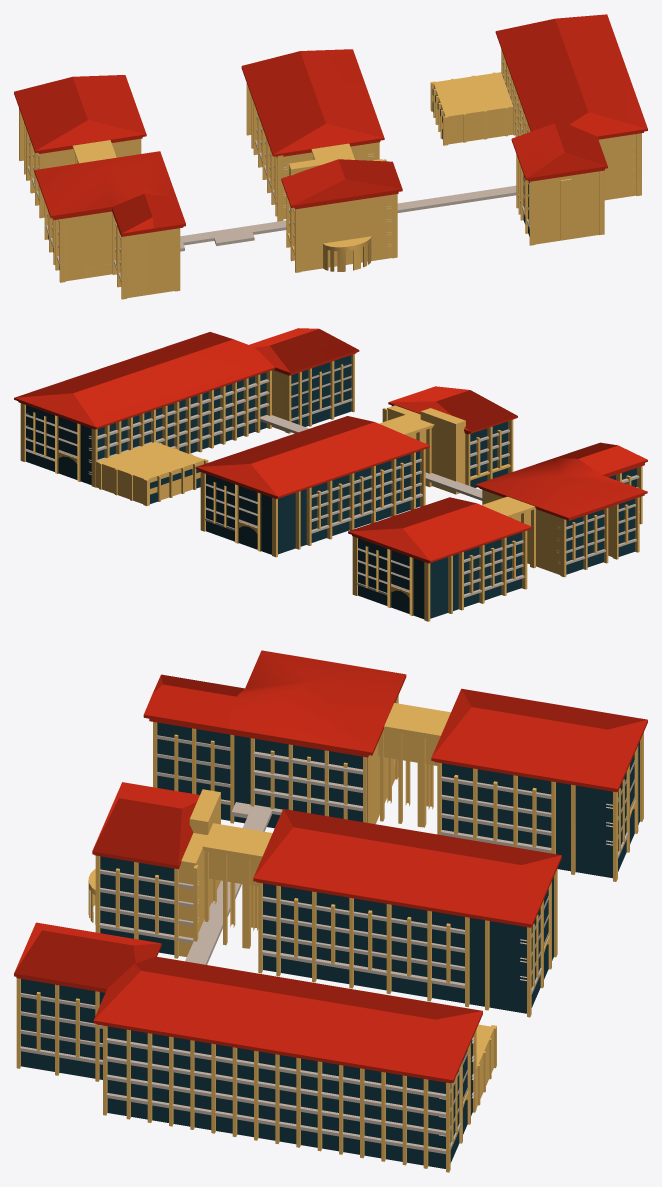
The model's file is GKL  S .FBX.
3 views of the same model, one above another, from view 1: azimuth 30°, elevation 25°; view 2: azimuth 150°, elevation 25°; view 3: azimuth 270°, elevation 25° (orthographic). The views are drawn at different scales.
Visible parts, largest first — view 1: GKL01, GKL00, GKL02; view 2: GKL01, GKL00, GKL03, GKL02; view 3: GKL01, GKL03, GKL00, GKL02.
Part boxes in pixels (left/top/right/bottom): GKL01: left=14, top=14, right=647, bottom=236; GKL00: left=19, top=49, right=641, bottom=299; GKL02: left=27, top=61, right=635, bottom=282; GKL01: left=14, top=328, right=647, bottom=563; GKL00: left=20, top=354, right=642, bottom=621; GKL03: left=26, top=355, right=636, bottom=618; GKL02: left=25, top=364, right=639, bottom=597; GKL01: left=14, top=650, right=647, bottom=1083; GKL03: left=21, top=722, right=639, bottom=1168; GKL00: left=16, top=695, right=643, bottom=1172; GKL02: left=20, top=735, right=634, bottom=1154.
Size of the model in its own units: 1.99 by 0.2538 by 1.24.
